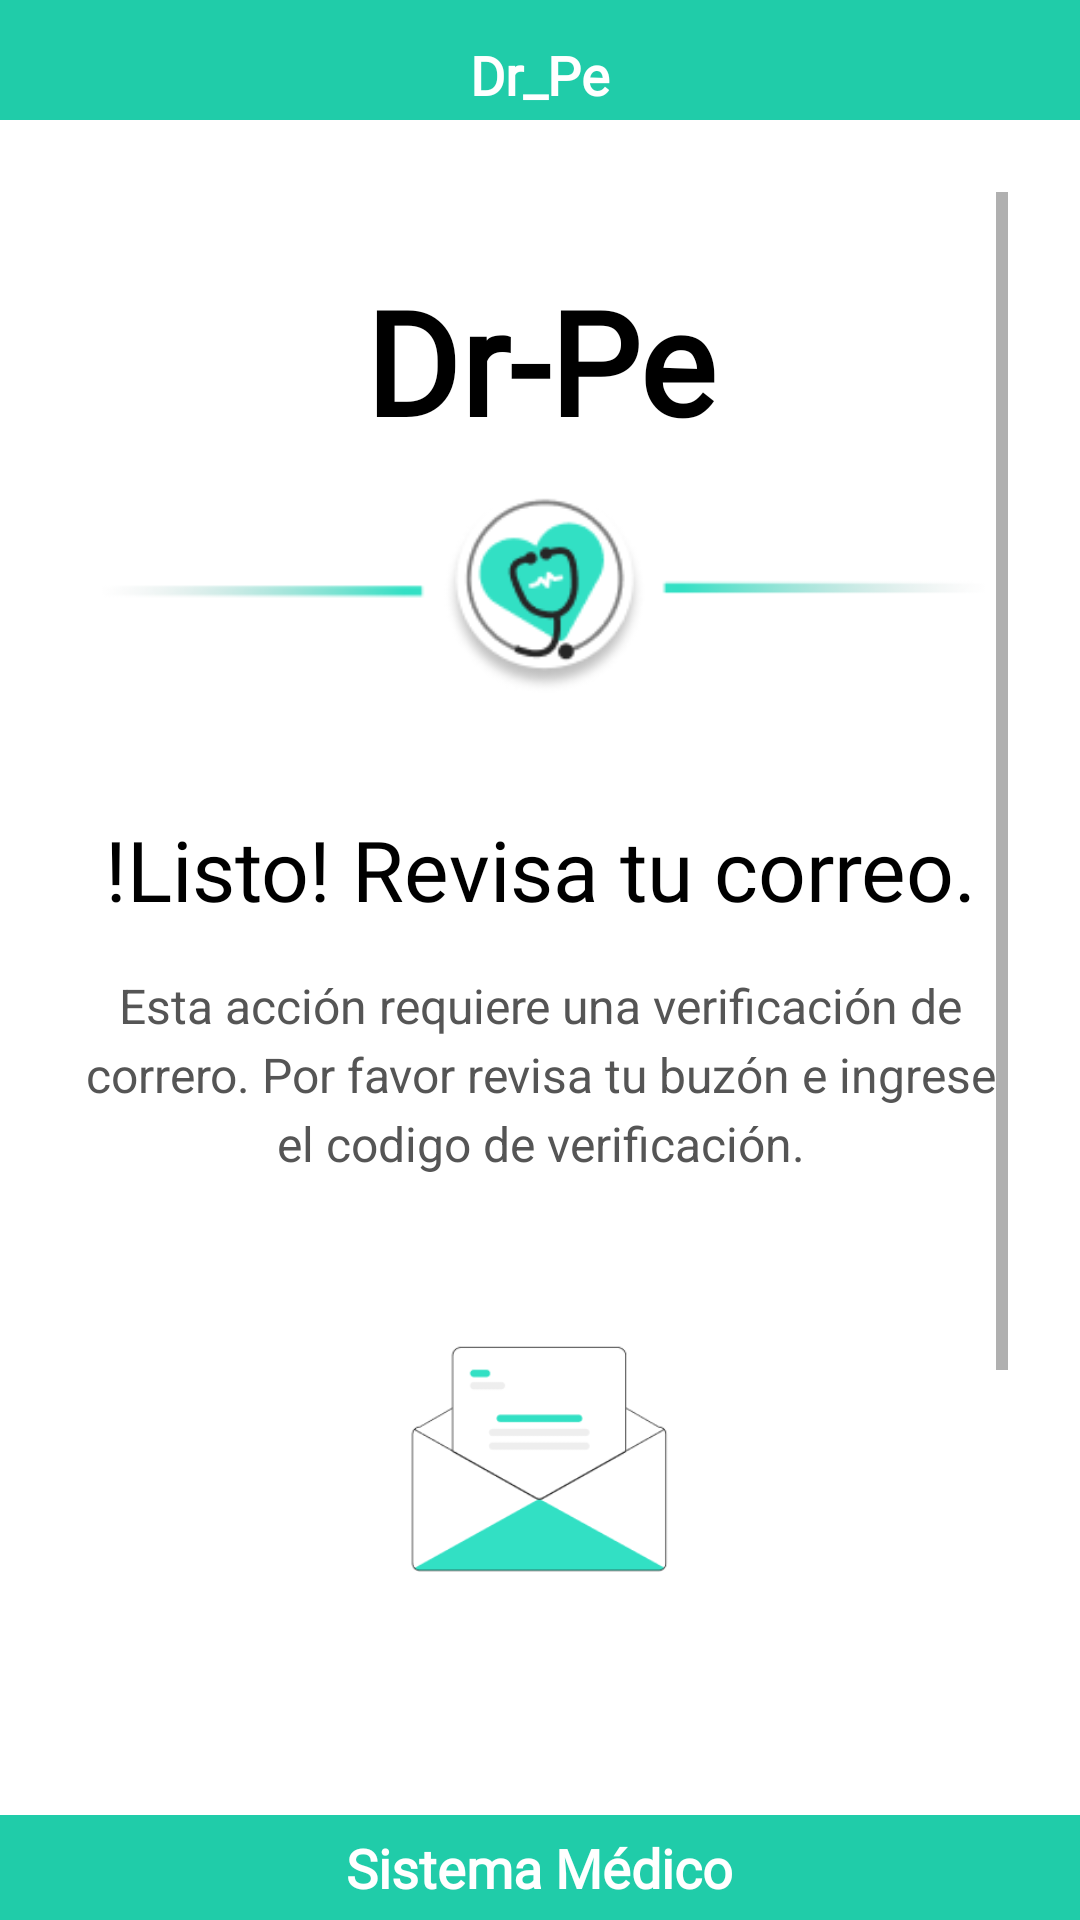

Icons on this 1080px x 1920px Android screen, each with the point to tap as point (x, y):
verificar correo: point (539, 1459)
